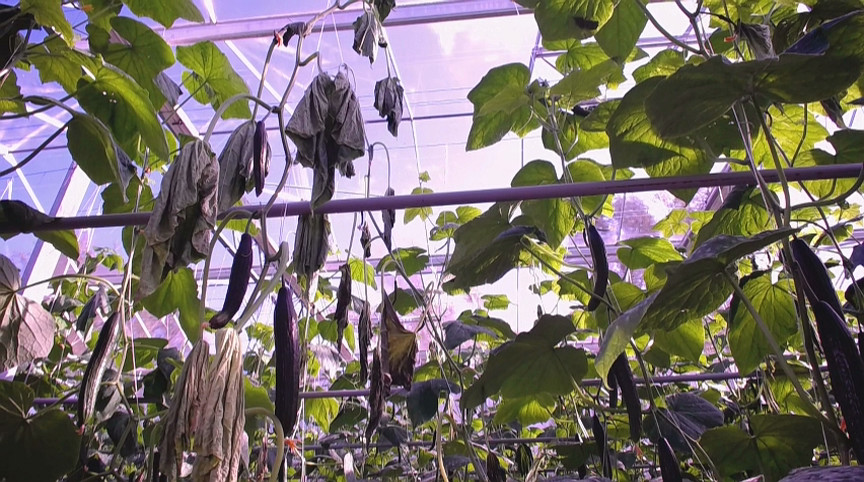cucumber: (789, 240, 864, 423), (76, 311, 121, 425), (207, 234, 254, 330), (272, 286, 298, 435), (610, 351, 643, 444), (584, 227, 612, 311), (659, 438, 683, 482)
